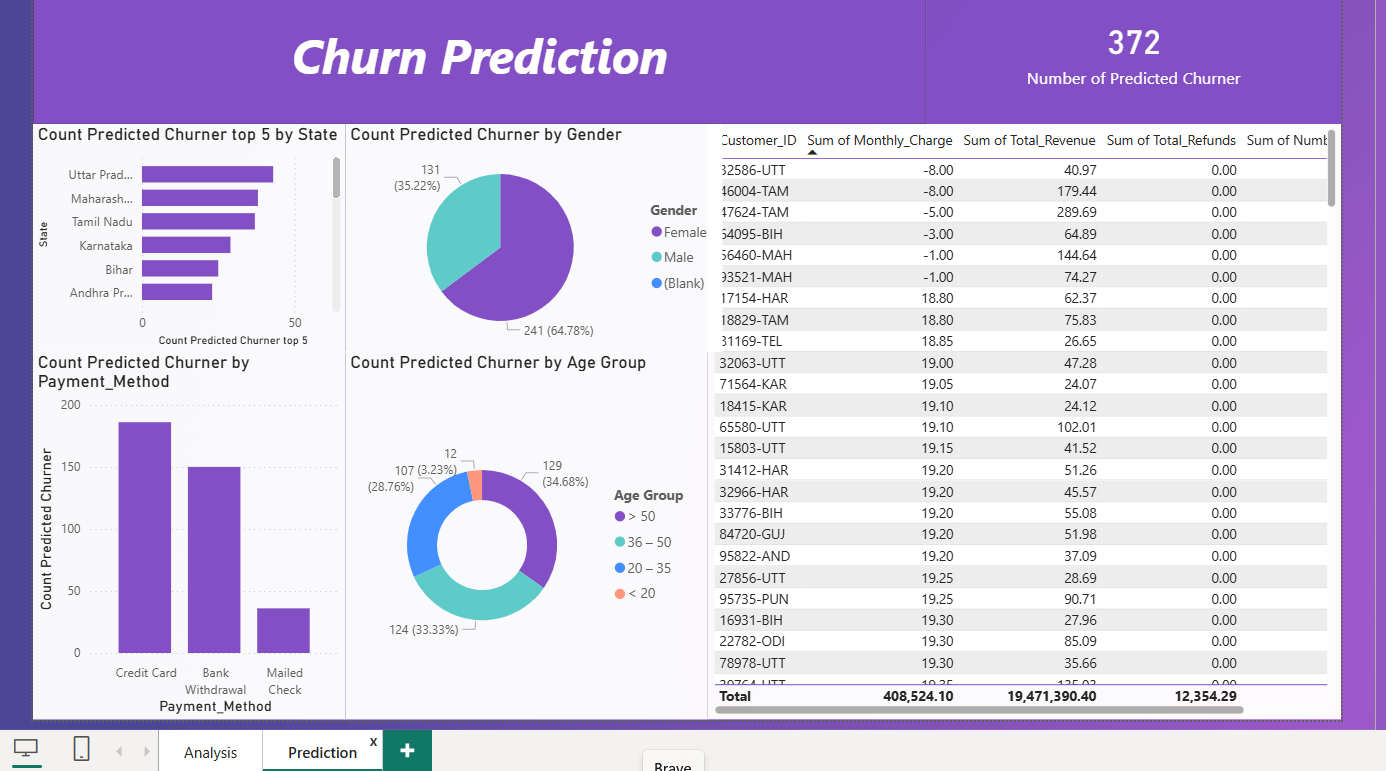

The dashboard page shown, as its layout file describes it:
{"tool":"powerbi","page":{"name":"Prediction","canvas":[1280,720],"ordinal":1},"visuals":[{"type":"tableEx","fields":{"Values":["Predictions.Customer_ID","Sum(prod_Churn.Monthly_Charge)","Sum(prod_Churn.Total_Revenue)","Sum(prod_Churn.Total_Refunds)","Sum(Predictions.Number_of_Referrals)"]},"box":[660.6,137.1,619.7,582.8],"z":0},{"type":"advanceCardE03760C5AB684758B56AA29F9E6C257B","fields":{"mainMeasure":["tbl_Measures.Count Predicted Churner"]},"box":[874.2,0,406.1,137.1],"z":1000},{"type":"pieChart","fields":{"Category":["Predictions.Gender"],"Y":["tbl_Measures.Count Predicted Churner"]},"box":[305.9,137.1,369.2,222.8],"z":1001},{"type":"donutChart","fields":{"Category":["mapping_AgeGrp.Age Group"],"Y":["tbl_Measures.Count Predicted Churner"]},"box":[305.9,360,354.7,360],"z":1002},{"type":"columnChart","fields":{"Category":["prod_Churn.Payment_Method"],"Y":["tbl_Measures.Count Predicted Churner"]},"box":[0,360,305.9,360],"z":1003},{"type":"barChart","fields":{"Y":["tbl_Measures.Count Predicted Churner"],"Category":["prod_Churn.State"]},"box":[0,137.1,305.9,222.8],"z":1004},{"type":"shape","box":[0,0,874.2,137.1],"z":1005}]}

Visuals, with their boxes in screenshot pixels (x1, y1, x2, y2):
tableEx - Predictions.Customer_ID x Sum(prod_Churn.Monthly_Charge): box(703, 122, 1335, 717)
advanceCardE03760C5AB684758B56AA29F9E6C257B - tbl_Measures.Count Predicted Churner: box(921, 0, 1335, 122)
pieChart - Predictions.Gender x tbl_Measures.Count Predicted Churner: box(341, 122, 718, 349)
donutChart - mapping_AgeGrp.Age Group x tbl_Measures.Count Predicted Churner: box(341, 349, 703, 717)
columnChart - prod_Churn.Payment_Method x tbl_Measures.Count Predicted Churner: box(29, 349, 341, 717)
barChart - tbl_Measures.Count Predicted Churner x prod_Churn.State: box(29, 122, 341, 349)
shape: box(29, 0, 921, 122)
